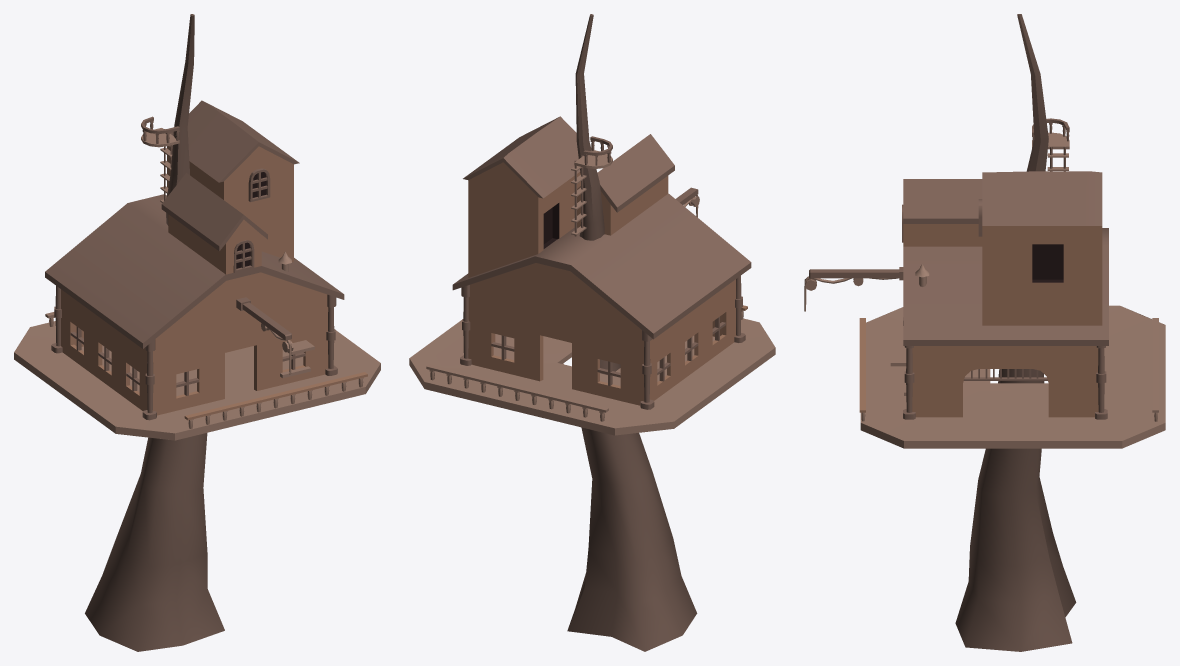
The model's file is SM_Cabin.gltf.
The picture shows the model from 3 angles, left to right: view 1: azimuth 30°, elevation 25°; view 2: azimuth 150°, elevation 25°; view 3: azimuth 270°, elevation 25°; orthographic projection. The views are drawn at different scales.
Visible parts, largest first — view 1: node-0; view 2: node-0; view 3: node-0.
Boxes of the visible parts, x1=… form: node-0: x1=14, y1=14, x2=380, y2=651; node-0: x1=409, y1=14, x2=775, y2=651; node-0: x1=804, y1=14, x2=1165, y2=651.
Bounding box in the file's own units: 14.28 × 30.94 × 16.1.
